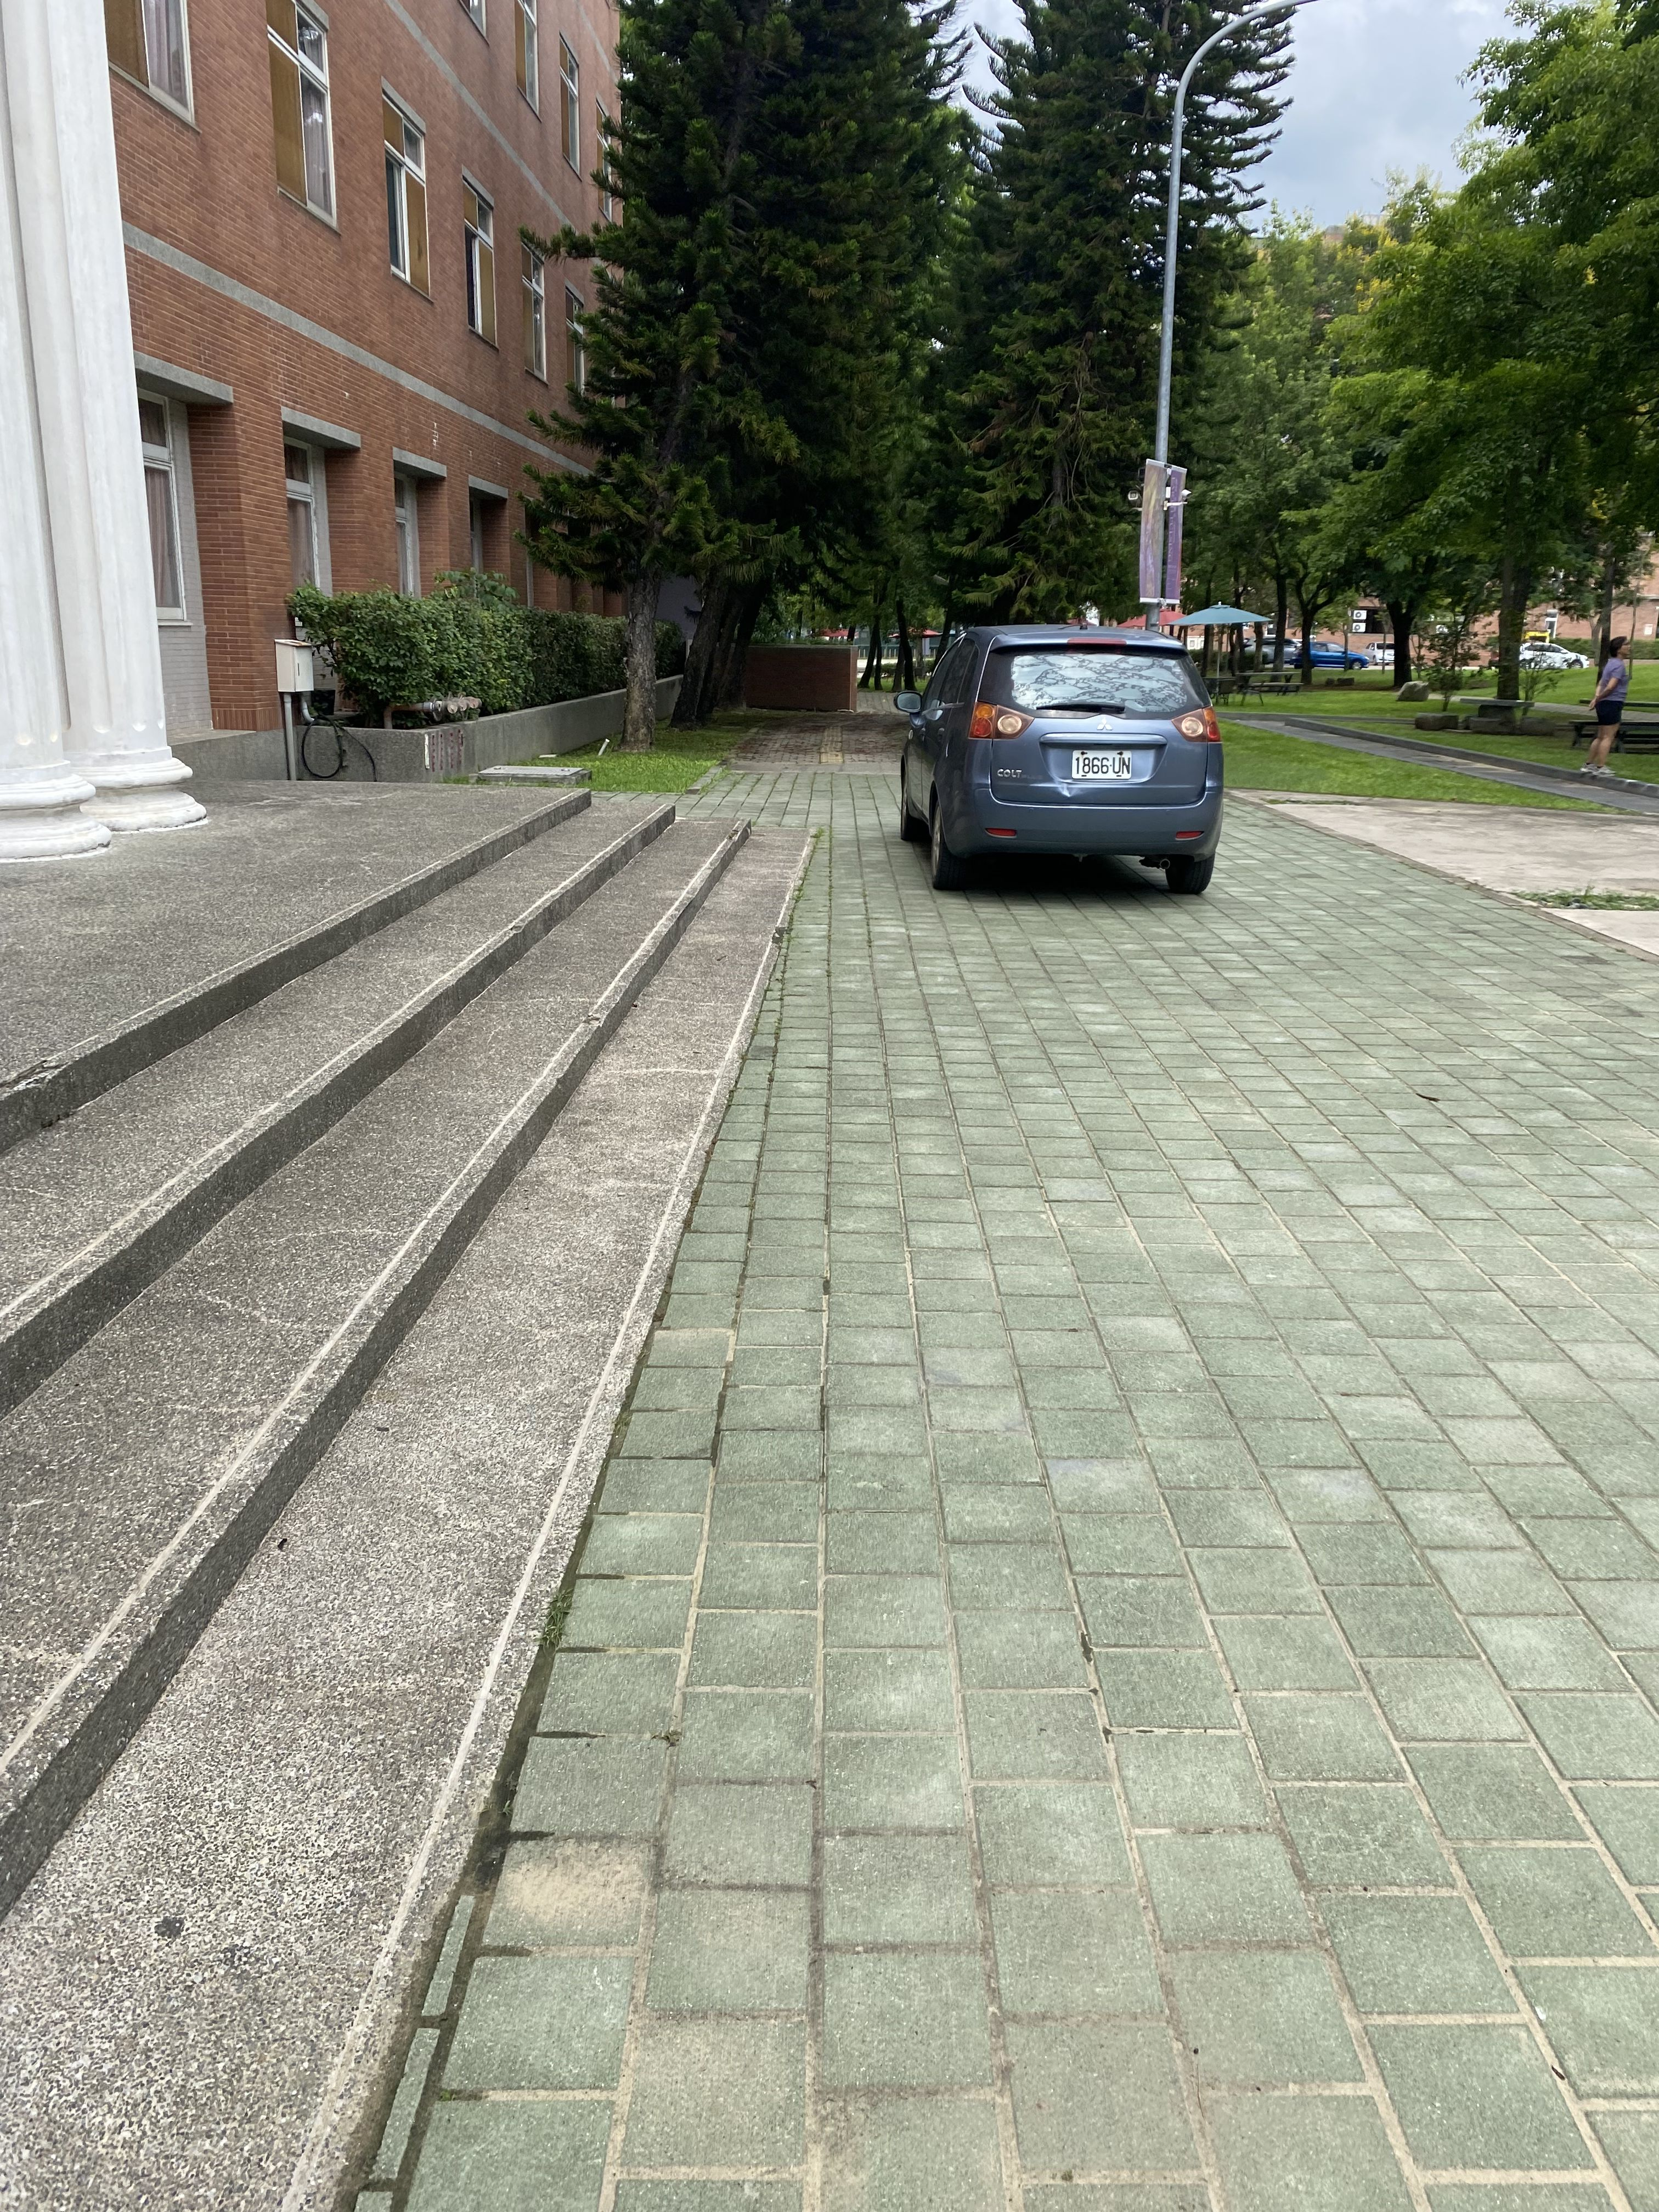sidewalk: (356, 719, 1659, 2212)
